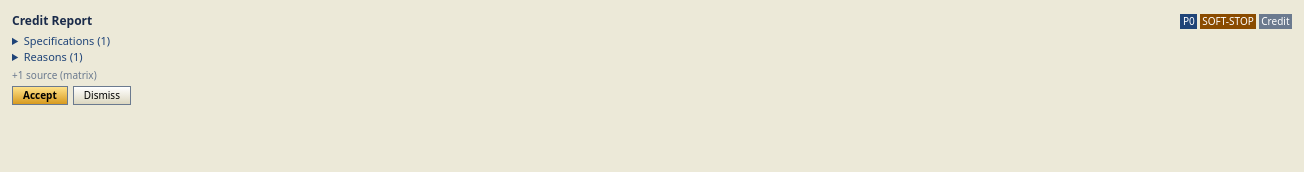
it: GroupedConditionCard — partial-failure recovery (Spec 1.5-UI §5.1.1) › renders cleanup-failure banner when a dismiss-as-duplicate fails
Click the button "Accept". click: (40, 95)
box: 12,86 -> 68,104
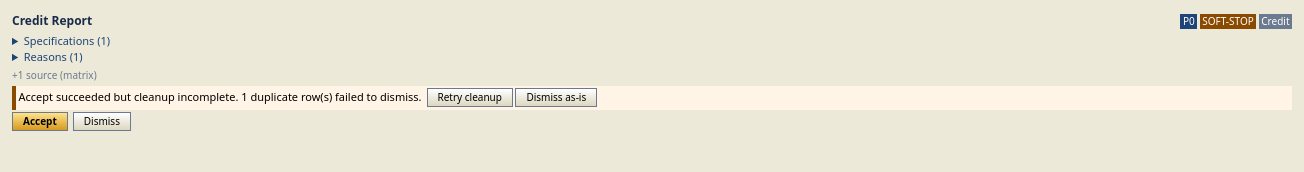
Expected: the text "cleanup incomplete" is shown, 18,89 -> 241,104
Expected: the button "Retry cleanup" is shown, 426,88 -> 513,107
Expected: the button "Dismiss as-is" is shown, 516,88 -> 597,107
